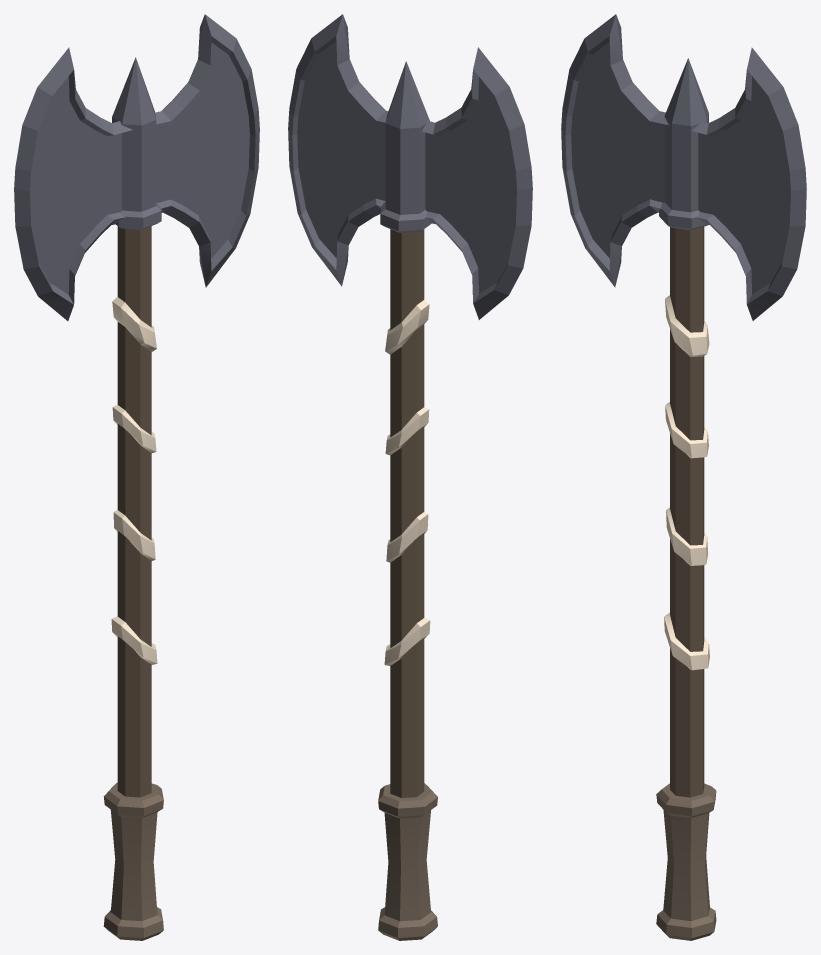
Rendered from _POLEAXE.fbx.
3 views of the same model, side by side, from view 1: azimuth 30°, elevation 25°; view 2: azimuth 150°, elevation 25°; view 3: azimuth 330°, elevation 25° (orthographic).
Parts seen in each view (by area): view 1: POLEAXE; view 2: POLEAXE; view 3: POLEAXE.
Boxes of the visible parts, x1,y1,x2,y2 form: POLEAXE: [14, 14, 259, 940]; POLEAXE: [288, 14, 532, 940]; POLEAXE: [561, 14, 806, 940].
Size of the model in its own units: 27.68 by 97.04 by 5.93.
